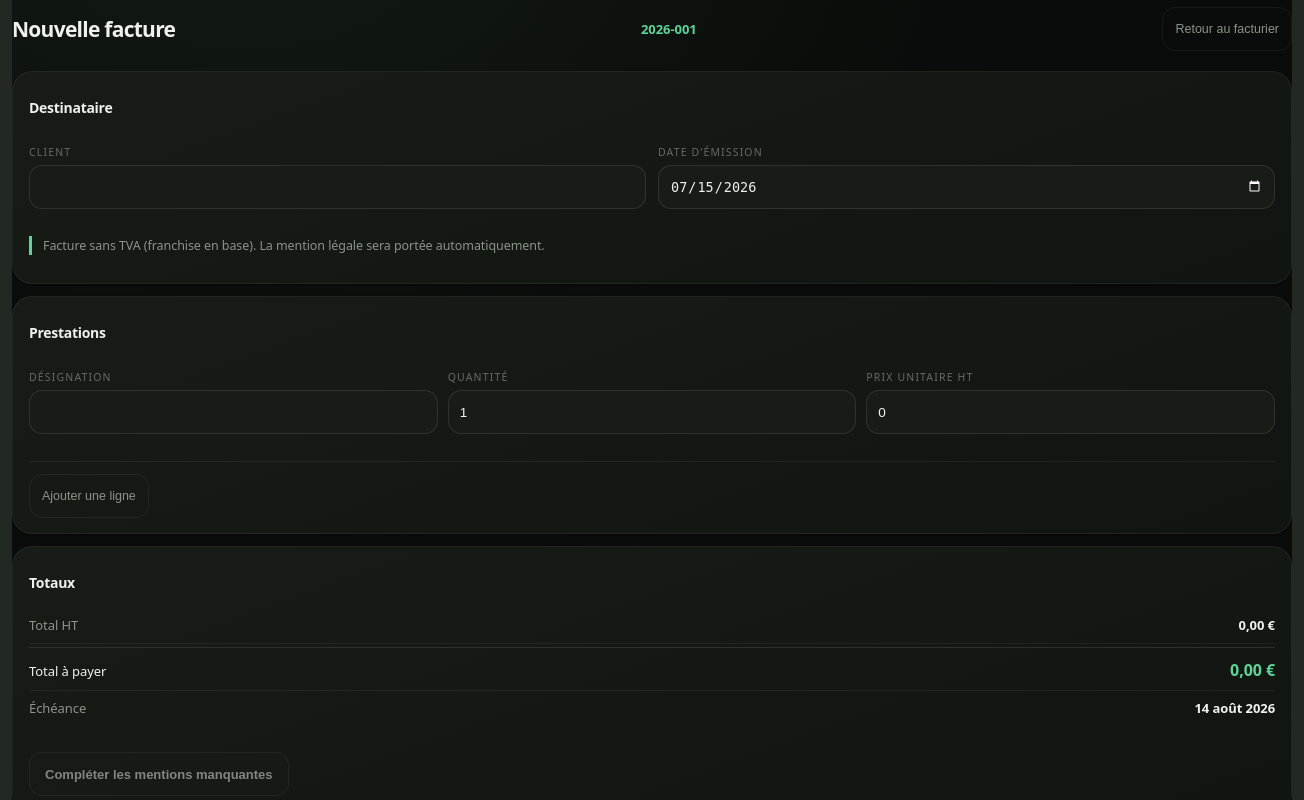
it: régime de TVA › annonce l’autoliquidation et la DES pour un client assujetti de l’Union
Step 1. Type "Kunde" into the field labelled "Client" → x=338, y=187, box [29,165,646,209]
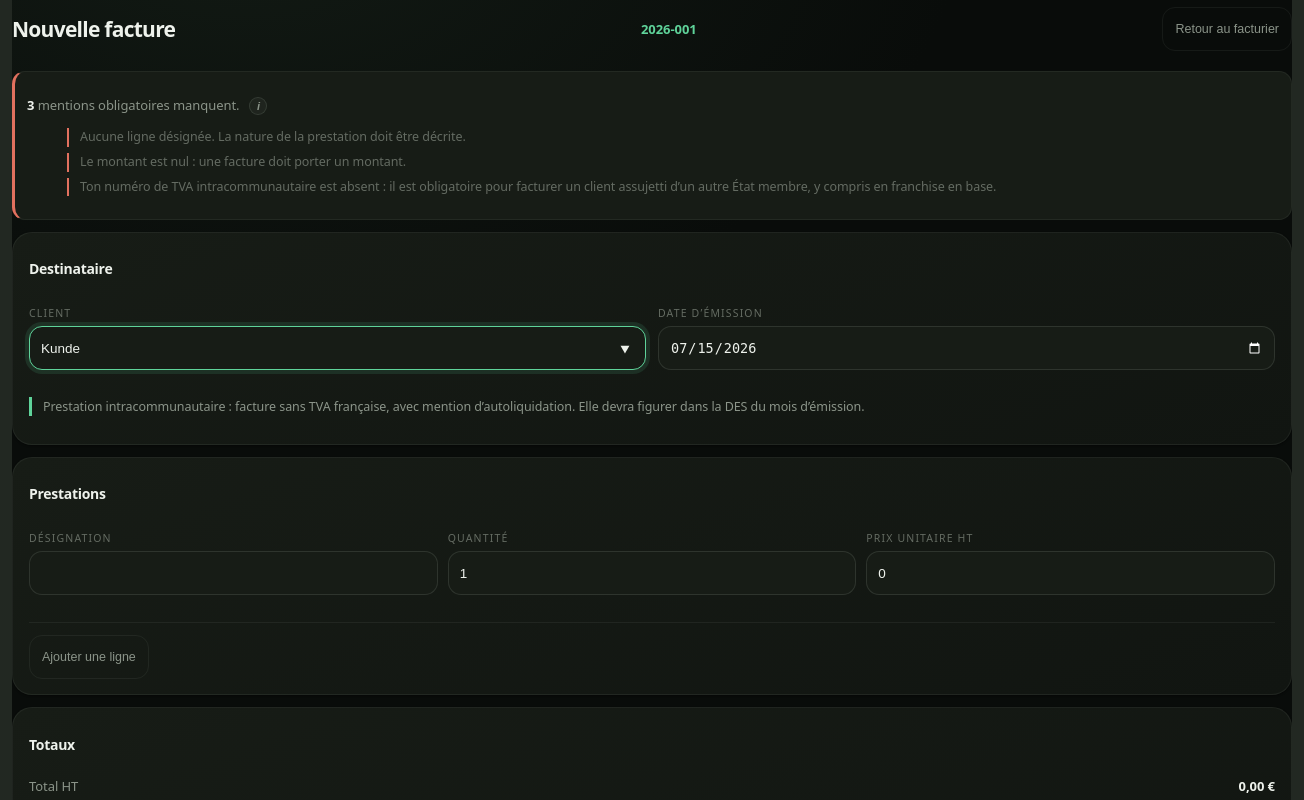
Check: the text "DES" is shown, box [43,398,864,415]
